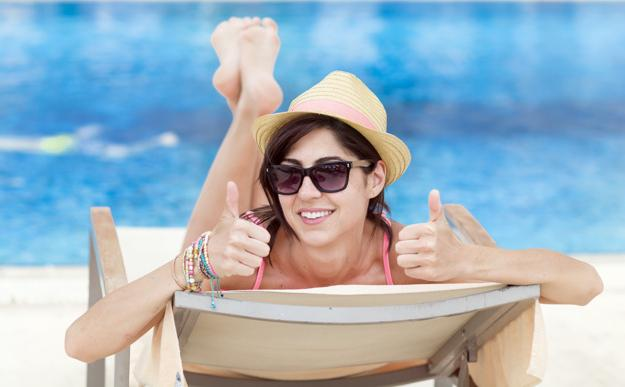thumbsup: (395, 188, 446, 281), (223, 180, 271, 276)
